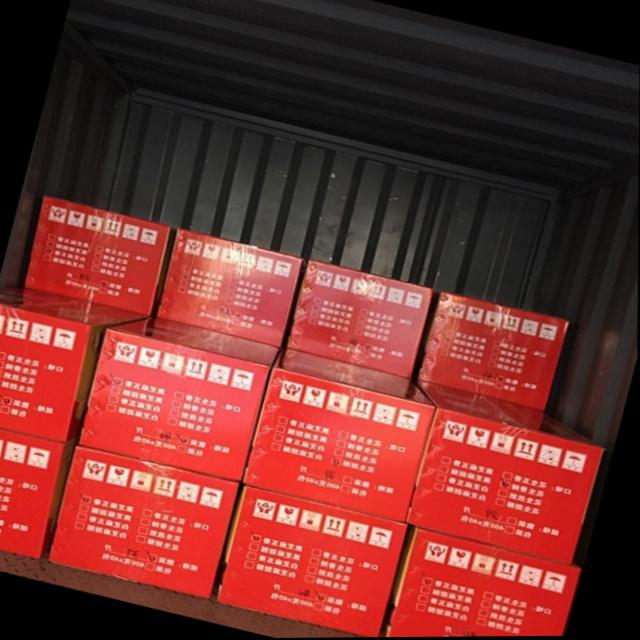box: (407, 381, 605, 566), (242, 347, 437, 522), (78, 316, 280, 483), (216, 485, 410, 638), (47, 445, 240, 598), (0, 287, 152, 442), (382, 525, 580, 638), (417, 290, 568, 411), (286, 259, 437, 380), (156, 227, 308, 347), (24, 195, 176, 315), (0, 428, 79, 558)
